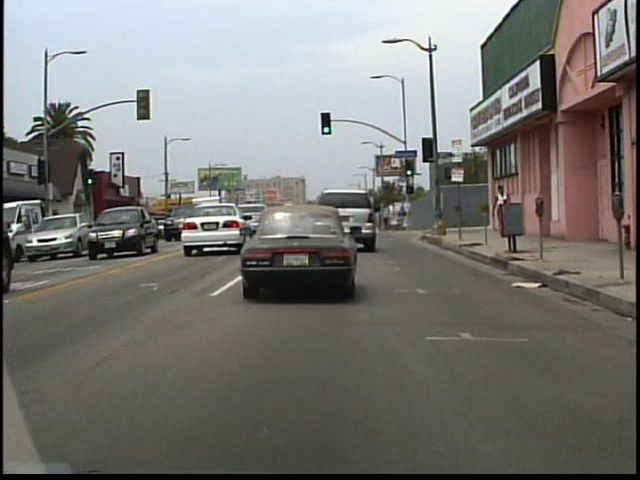person: (490, 182, 514, 239)
